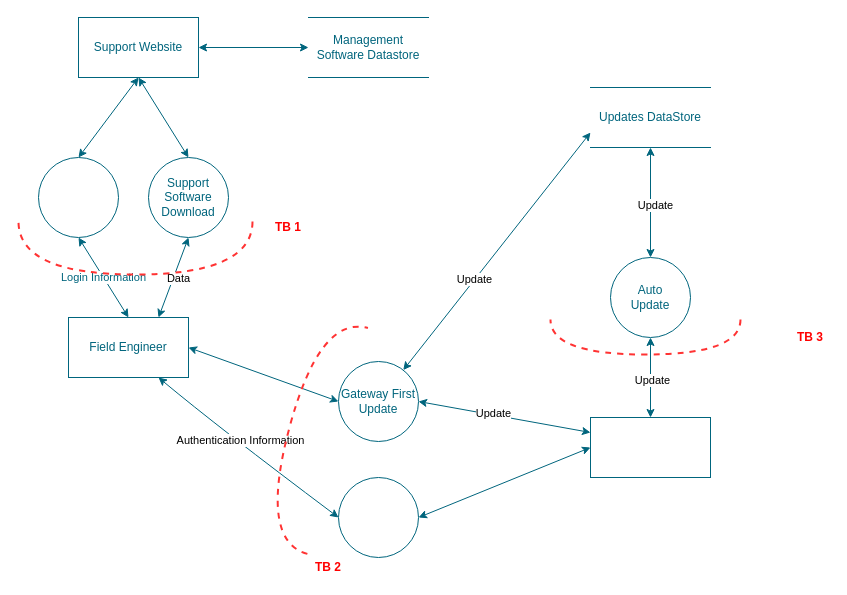
Some shapes in this 847 by 595 pixel diagram are drawn without their labels. The shapes that lost their labels are listed below. From the top down, each one's centre as x and y in pixels, then its label:
point 78,197: Login
point 650,447: Gateway
point 378,517: Authentication
